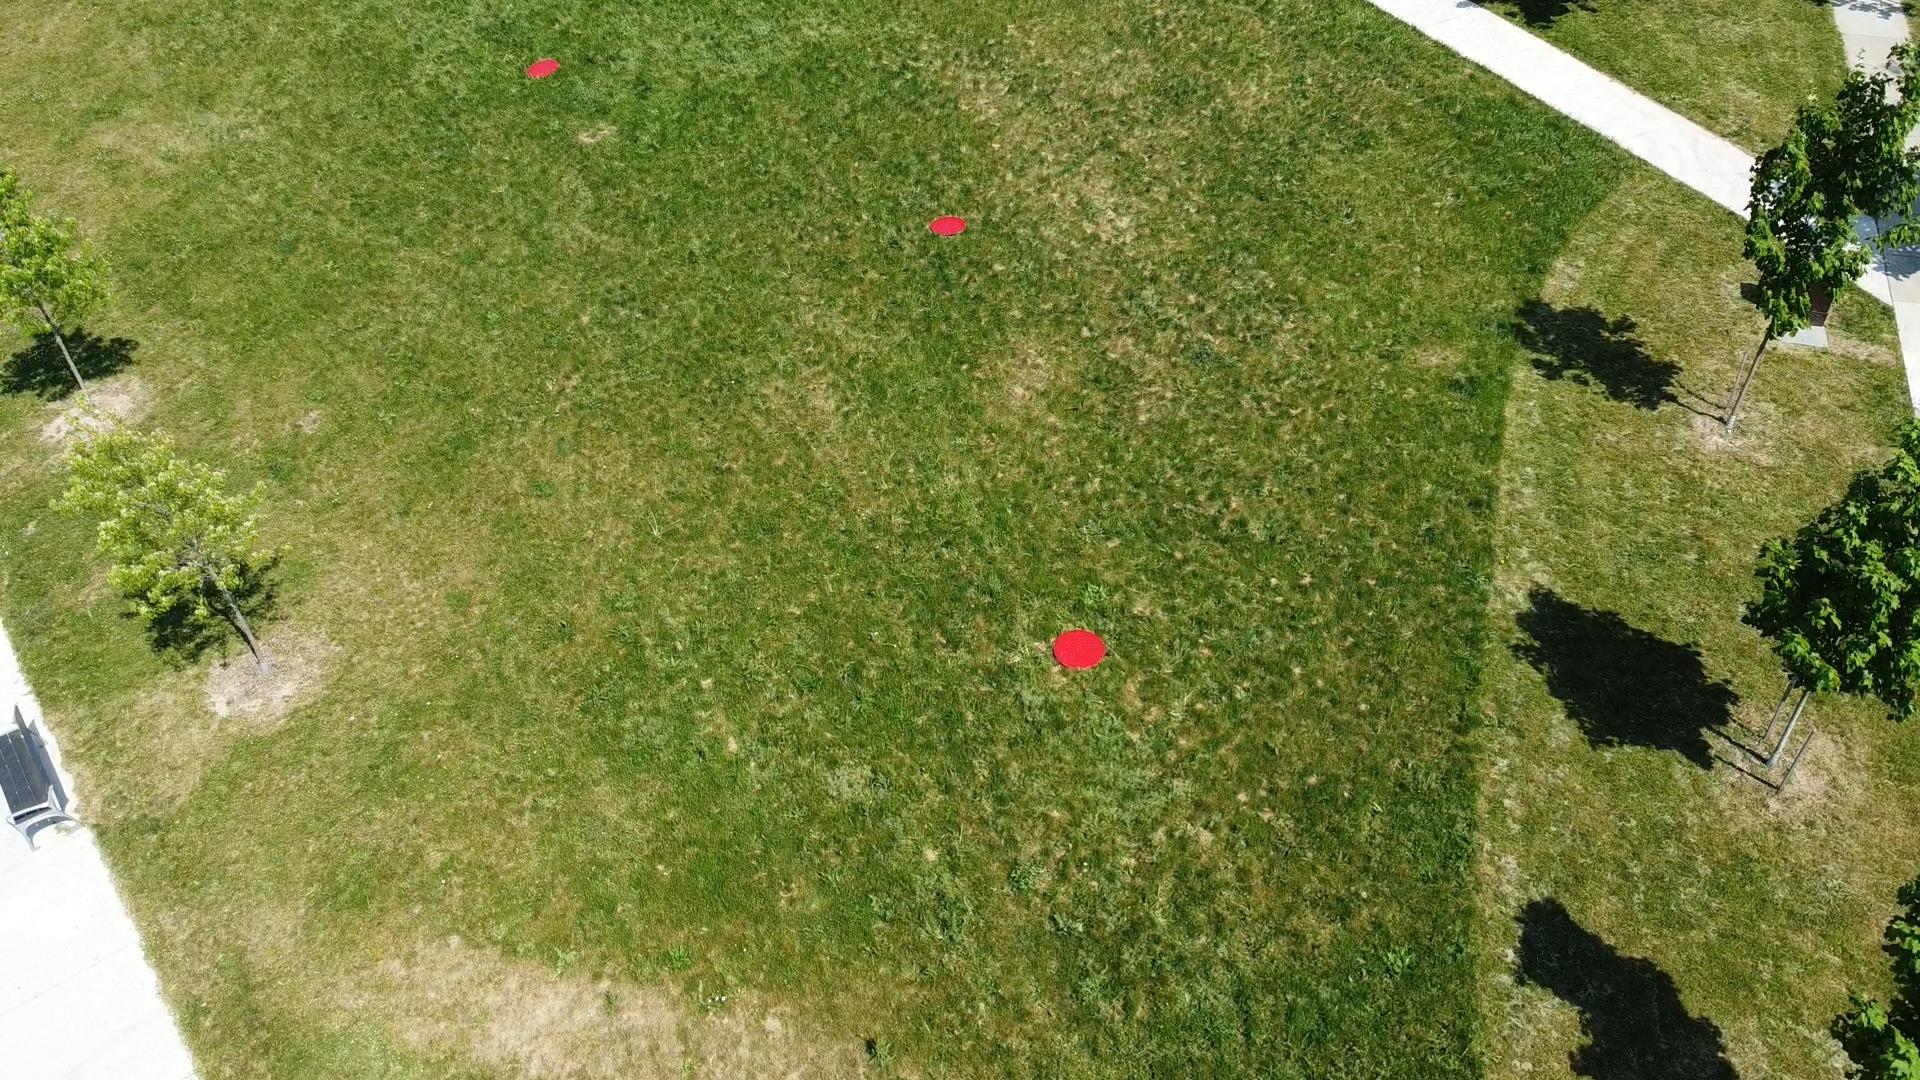Red: (1052, 629, 1108, 671), (930, 215, 968, 237), (526, 58, 562, 79)
